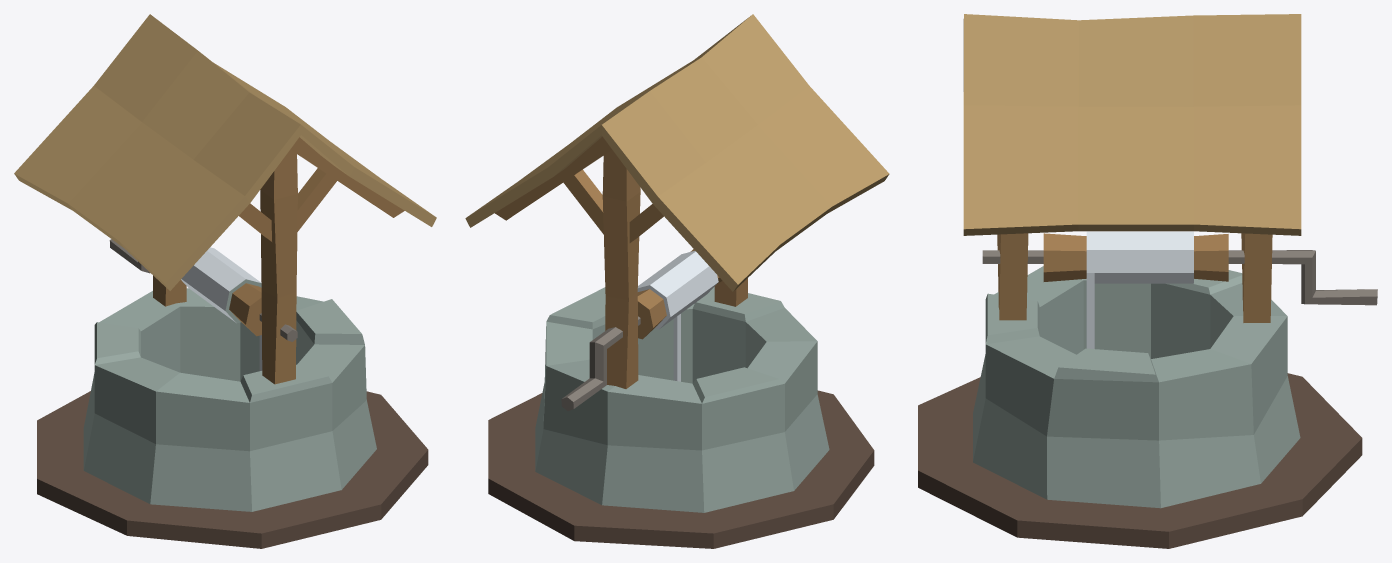
File: castle_well_01.fbx
The picture shows the model from 3 angles, left to right: view 1: azimuth 30°, elevation 25°; view 2: azimuth 150°, elevation 25°; view 3: azimuth 270°, elevation 25°; orthographic projection. The views are drawn at different scales.
Parts seen in each view (by area): view 1: Circle.001; view 2: Circle.001; view 3: Circle.001.
Boxes of the visible parts, box(x1,y1,x2,y2) form: Circle.001: box(14, 14, 436, 548); Circle.001: box(465, 14, 889, 548); Circle.001: box(918, 14, 1377, 548).
Bounding box in the file's own units: 197 × 216 × 204.
